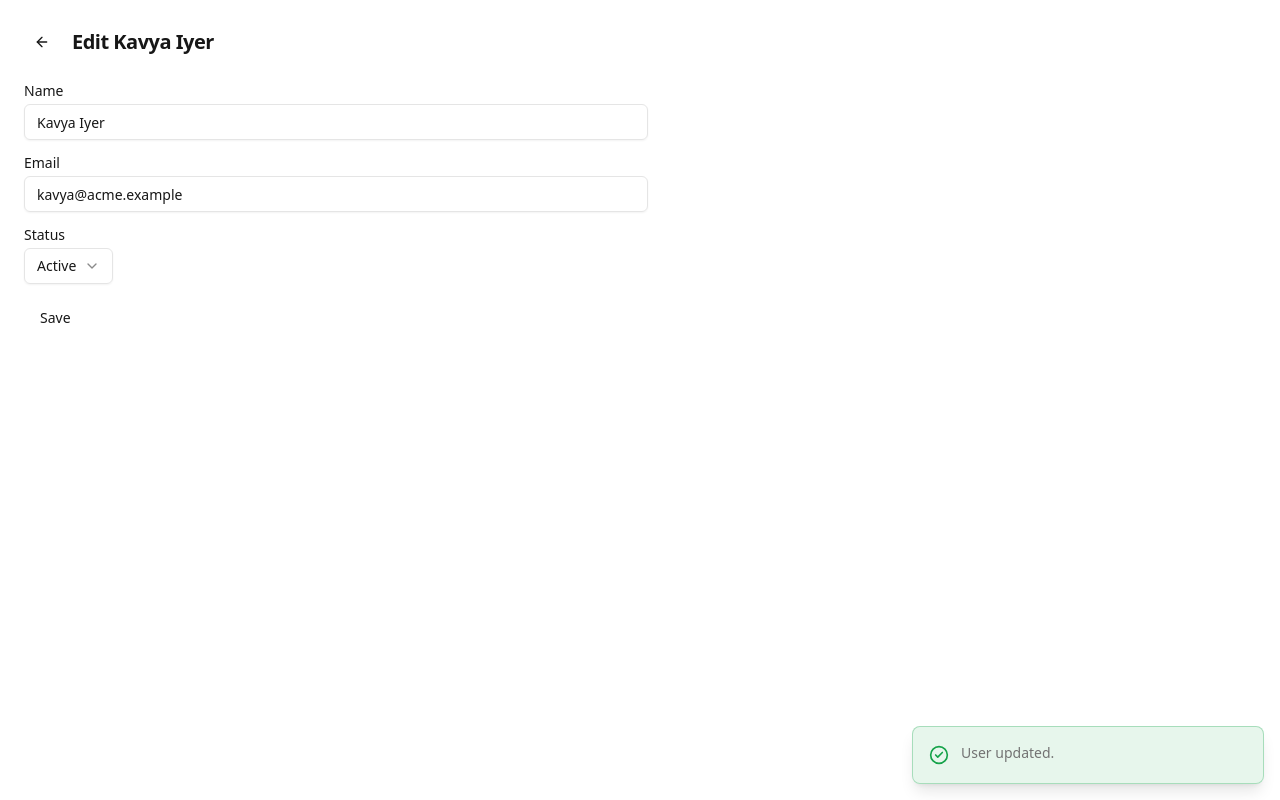
EditUserPage › displays API error in toast if PATCH fails
Replace the text in the field labelled "Name" with "Invalid123": x=336, y=122 [24,104,648,140]
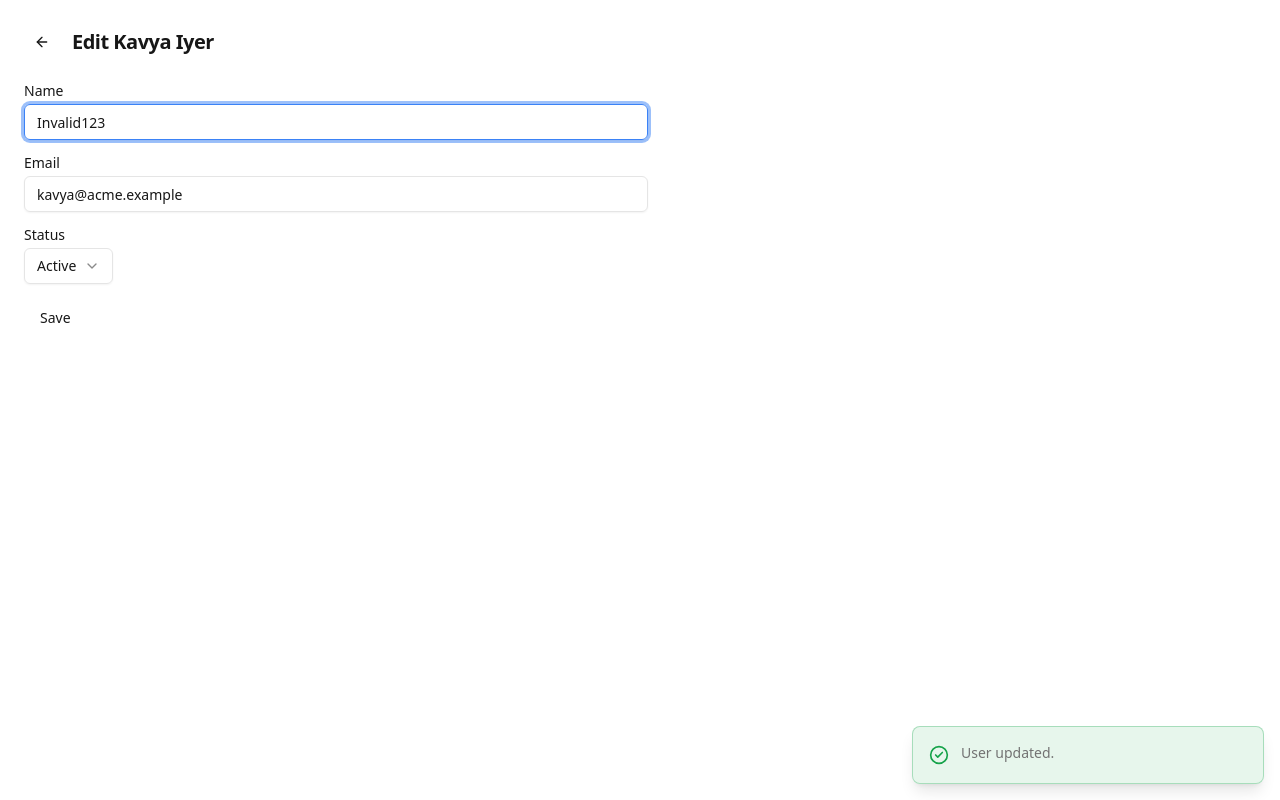
Click the button "Save": x=55, y=318 [24,300,87,336]
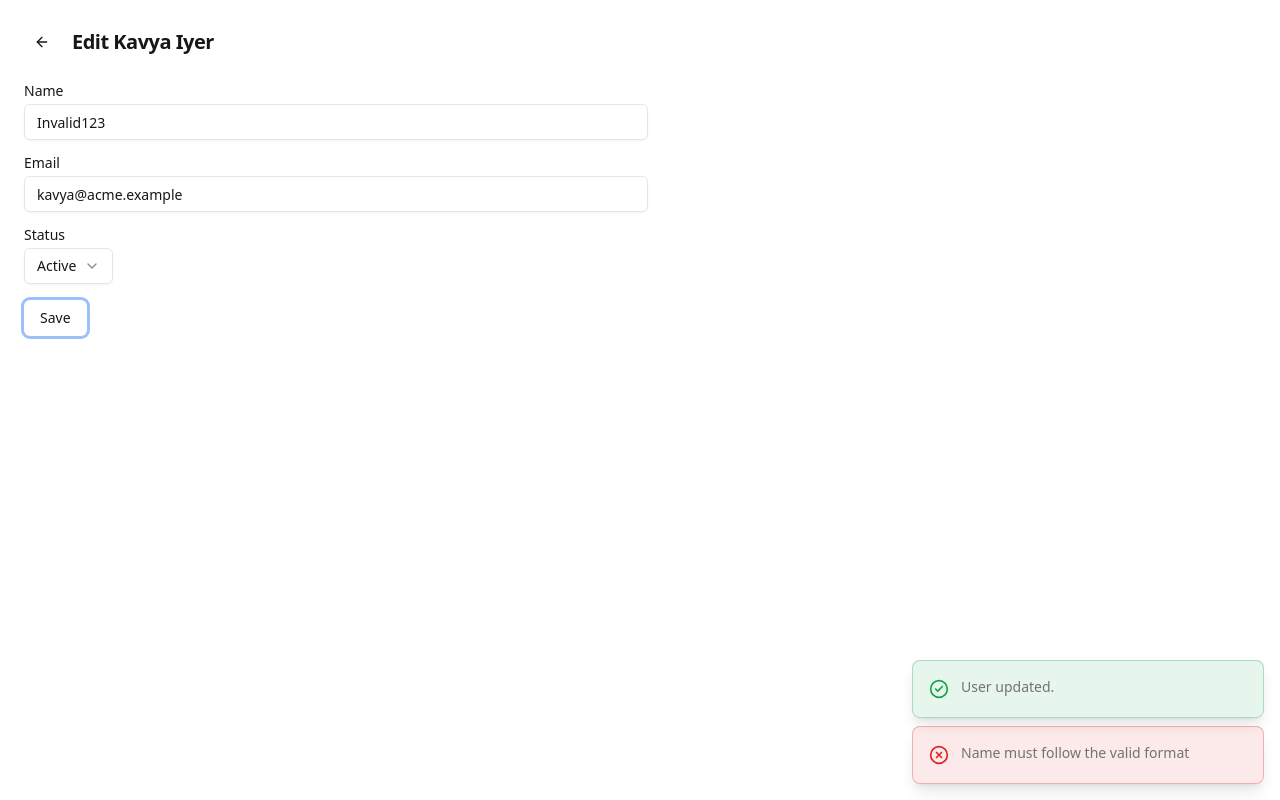
Expected: the text "Name must follow the valid format" is shown, [961,743,1189,762]
